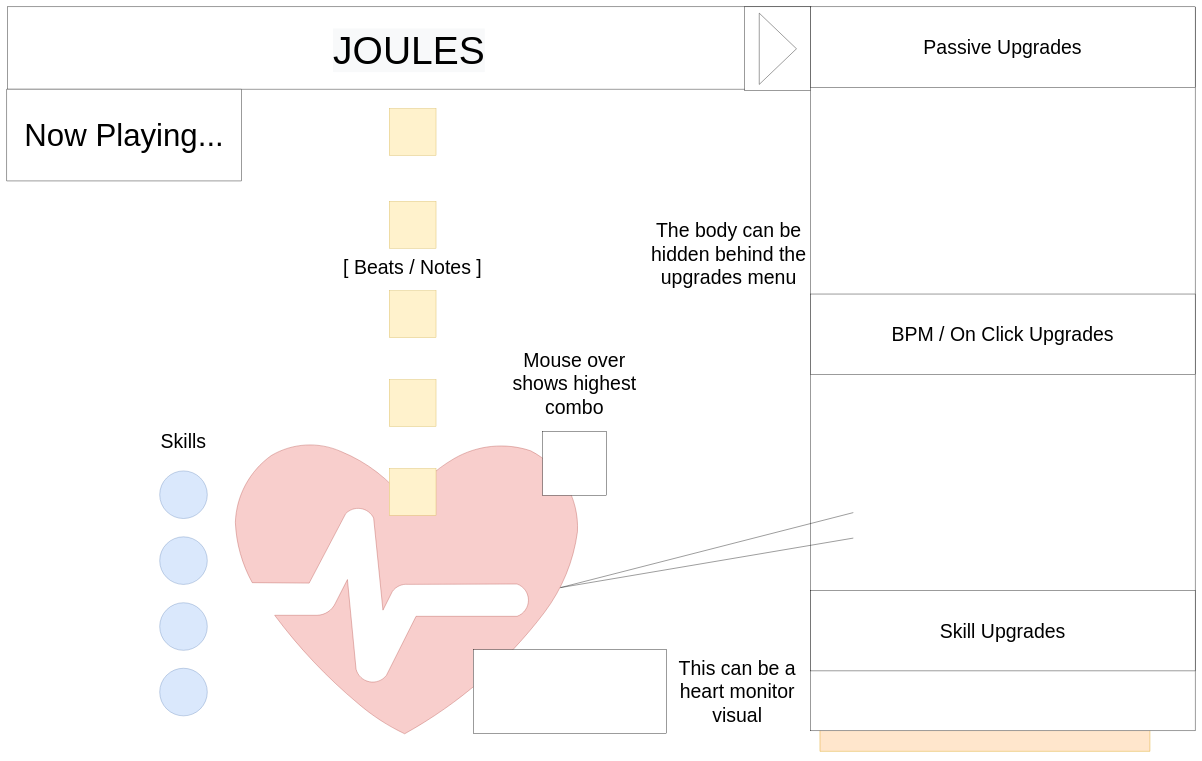
The diagram is 1202 pixels wide and 761 high, and some of its shapes have lost their labels. Each missing label, with the box of its shape:
BPM (multiplier): (473, 649, 667, 734)
x? Combo: (542, 431, 606, 495)
